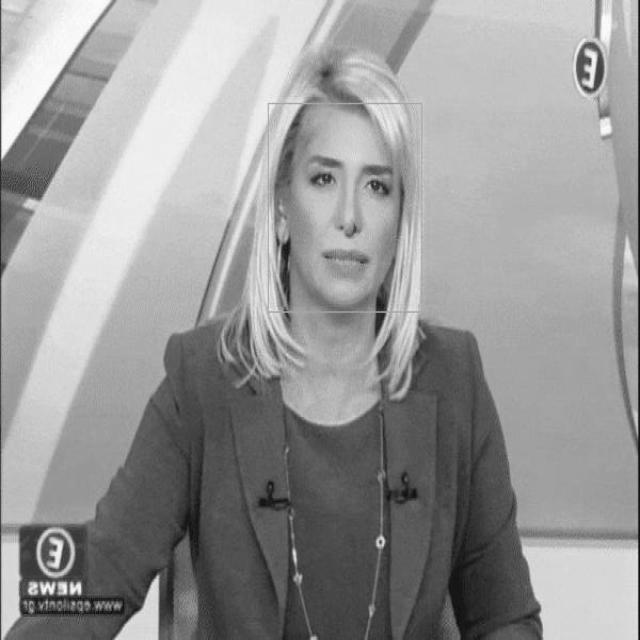fake: (268, 106, 420, 311)
